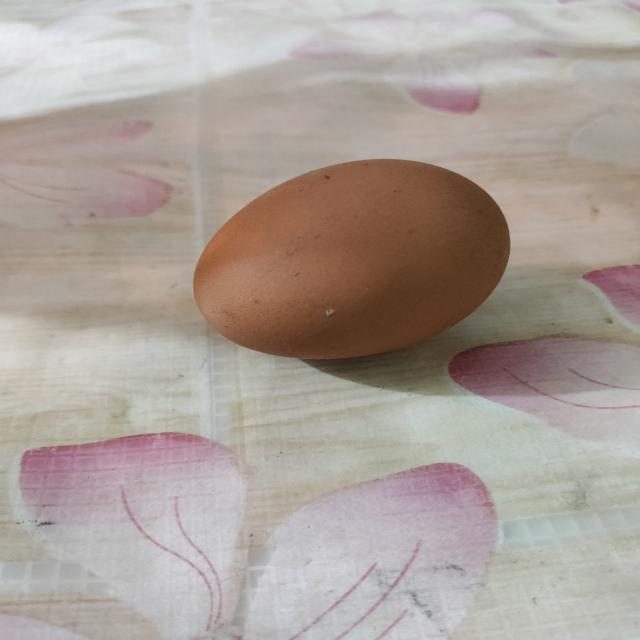egg: (186, 154, 518, 364)
